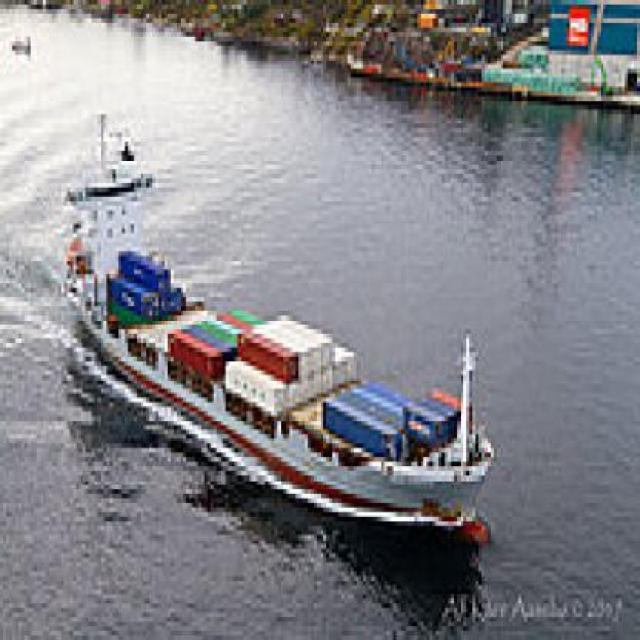container: (64, 111, 501, 568)
